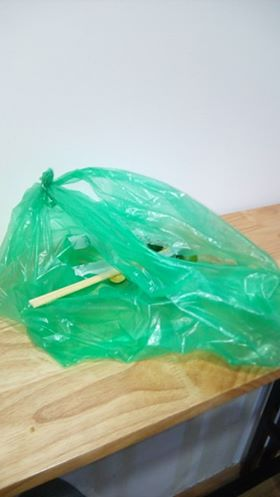plastic bag: (1, 168, 280, 373)
